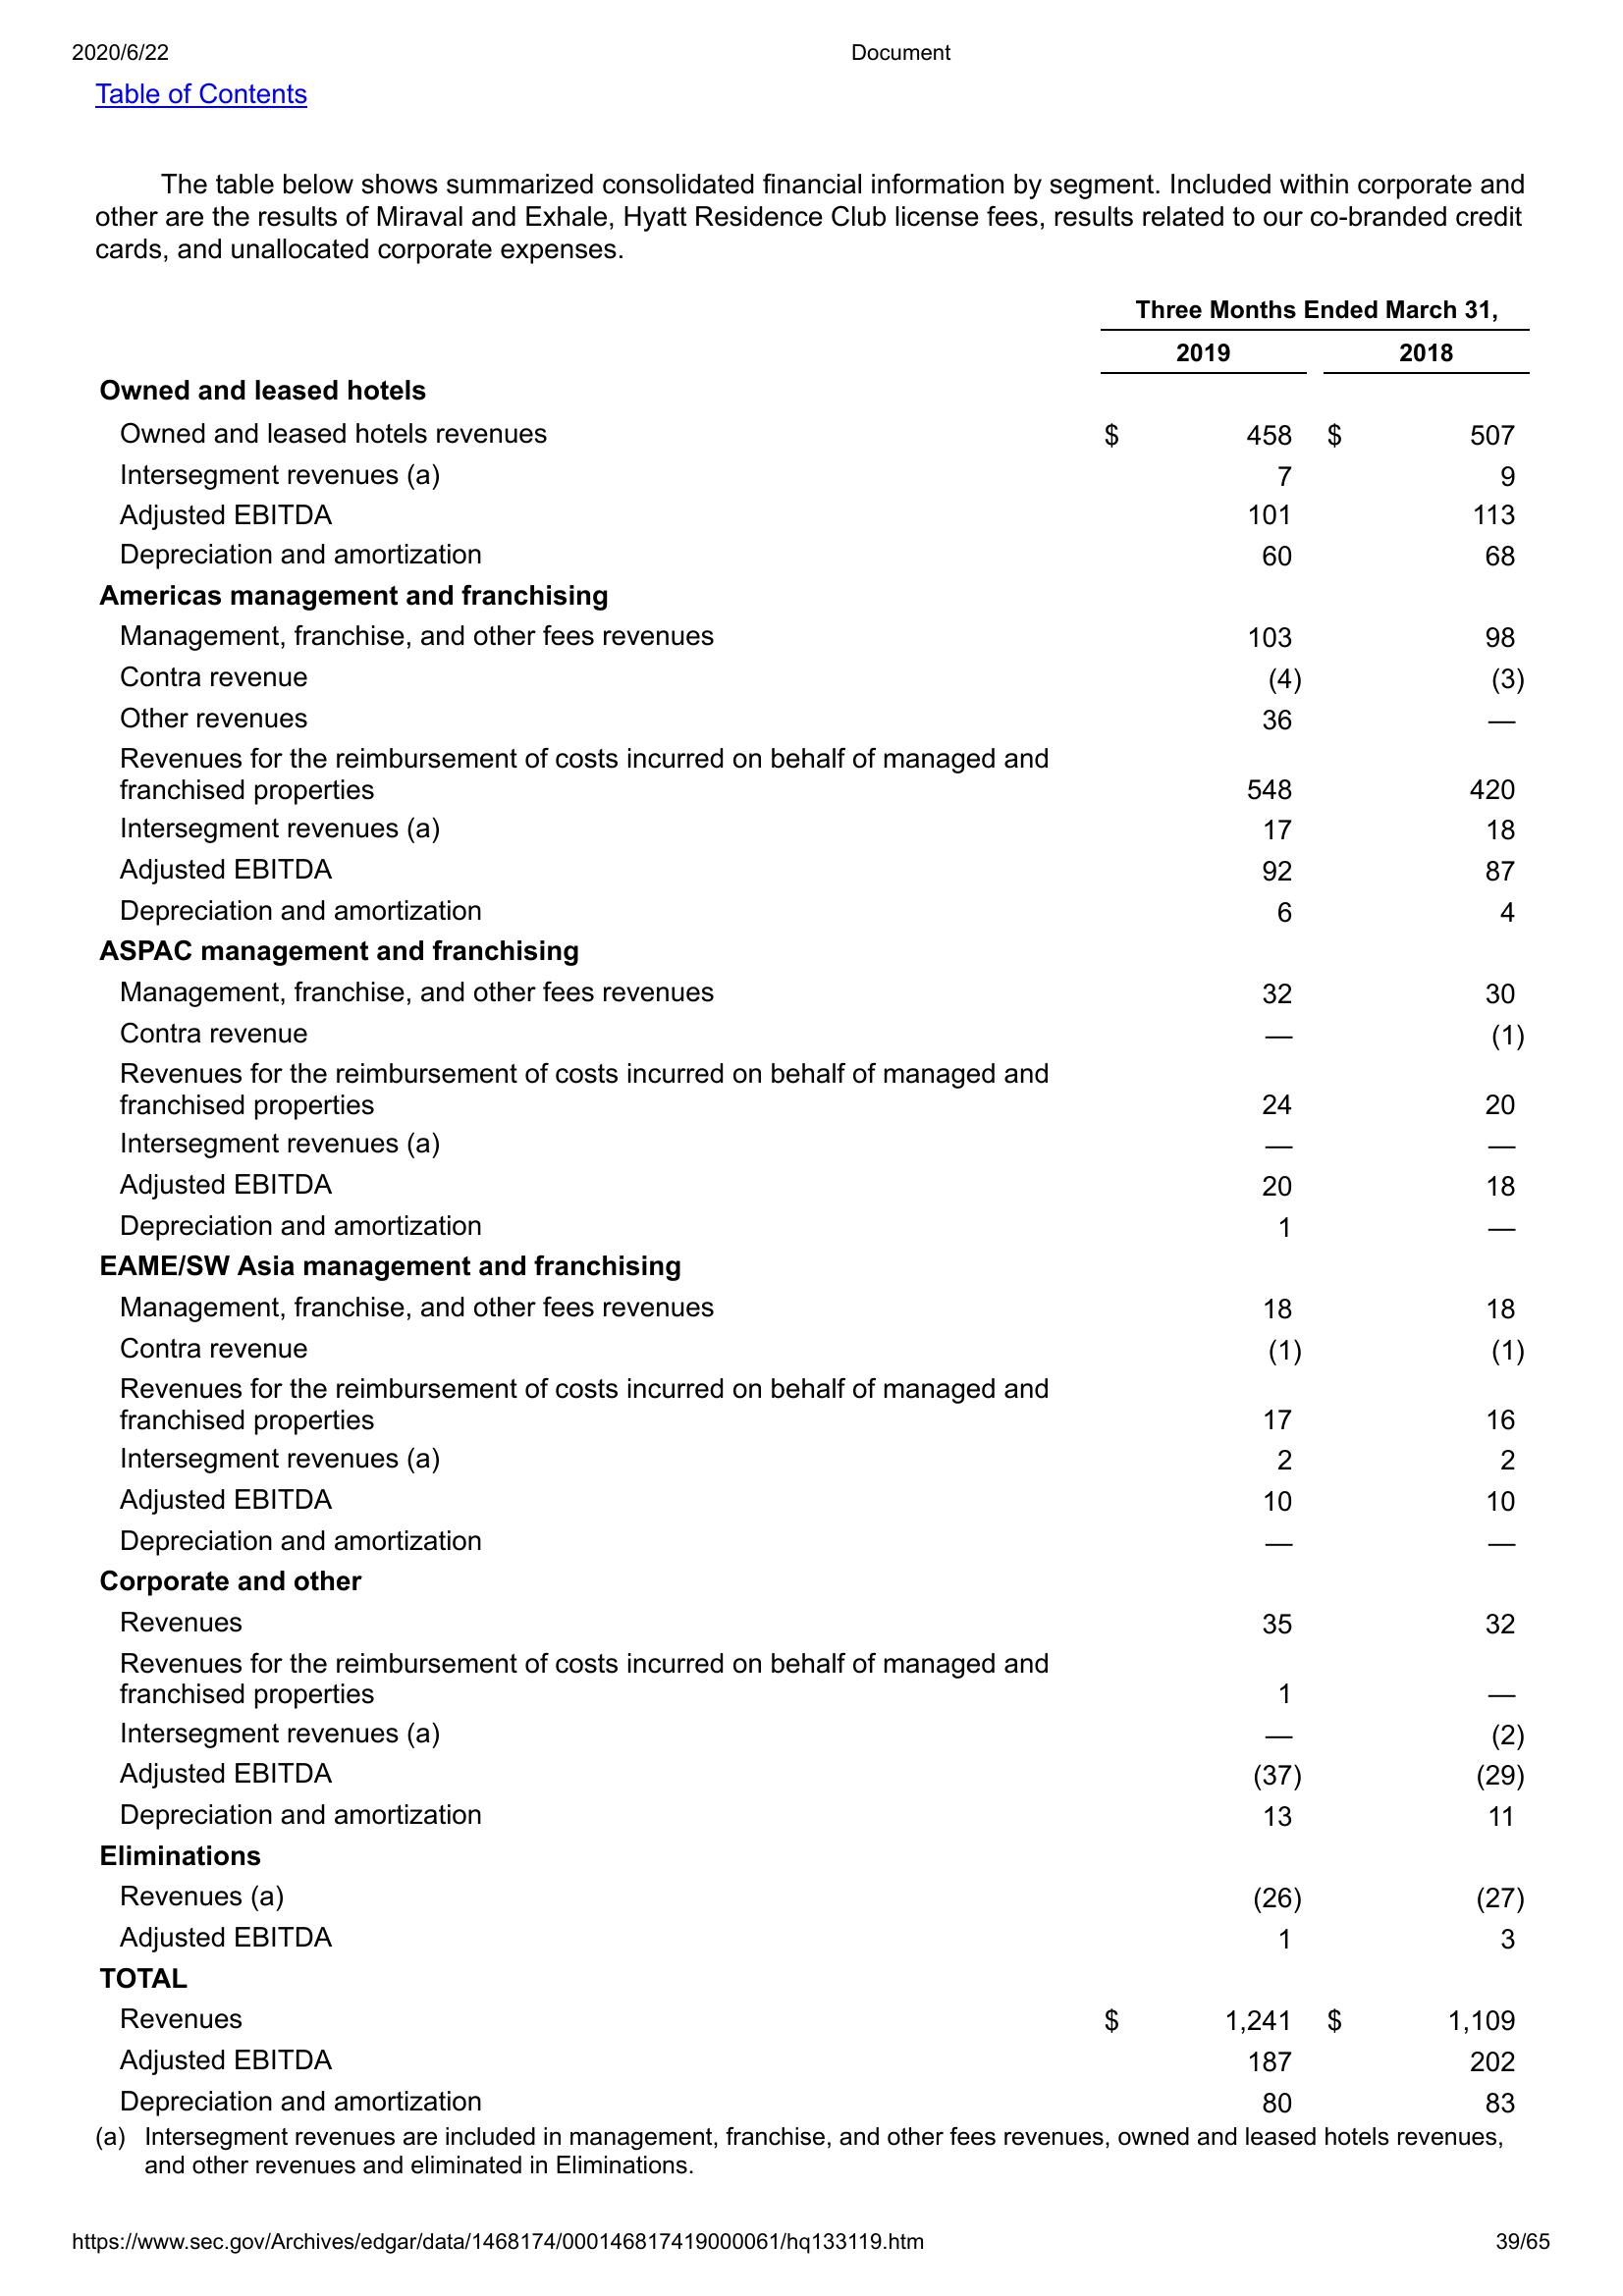table: (88, 288, 1535, 2119)
